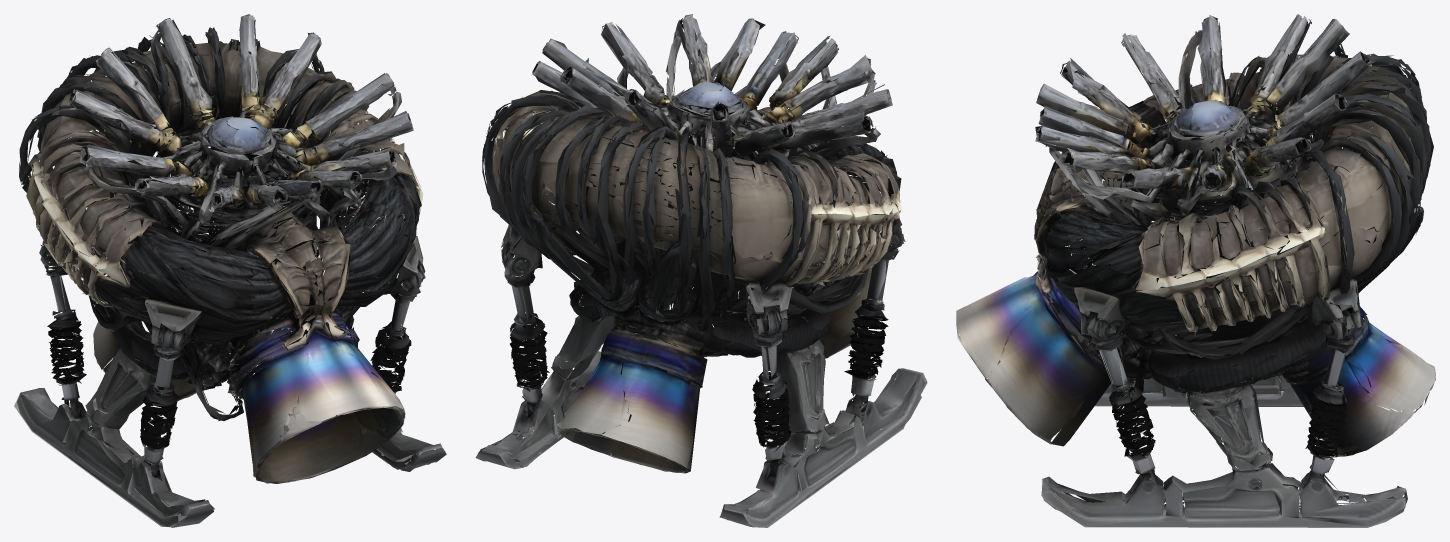
Rendered from ship_module_engine_manifold.glb.
The picture shows the model from 3 angles, left to right: view 1: azimuth 30°, elevation 25°; view 2: azimuth 150°, elevation 25°; view 3: azimuth 270°, elevation 25°; orthographic projection. The views are drawn at different scales.
Visible parts, largest first — view 1: node_0; view 2: node_0; view 3: node_0.
Boxes of the visible parts, x1,y1,x2,y2 form: node_0: [14, 14, 446, 527]; node_0: [475, 14, 927, 527]; node_0: [956, 14, 1435, 527].
Bounding box in the file's own units: 0.7482 × 0.8132 × 0.8639.
1 material, 1 textured.
